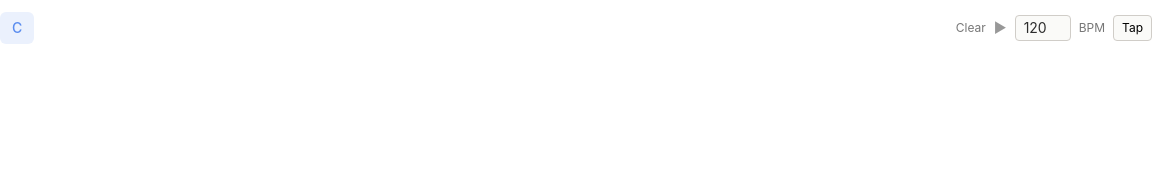
Scenario: ProgressionBar › shows X button on chip hover
The image size is (1164, 172).
Hover over the list item with test id "chord-chip": [17, 28] box [0,12,34,44]
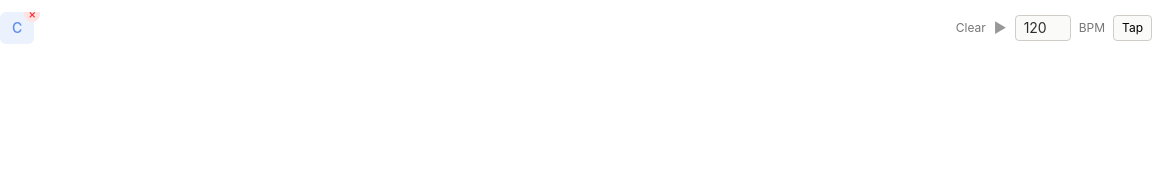
Now the button named "remove" is shown, box [24,12,40,22]
